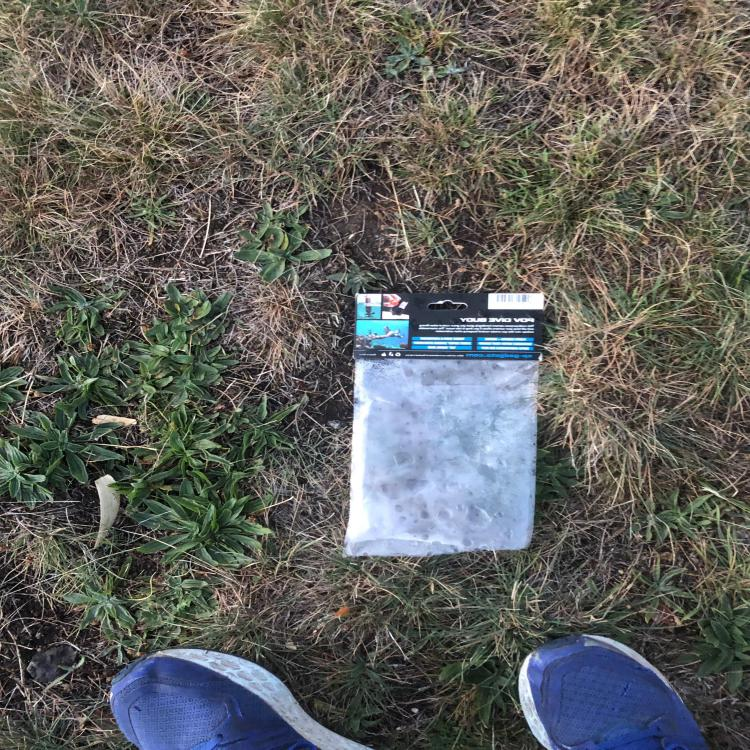Other carton: (354, 293, 542, 360)
Plastic film: (341, 358, 539, 558)
